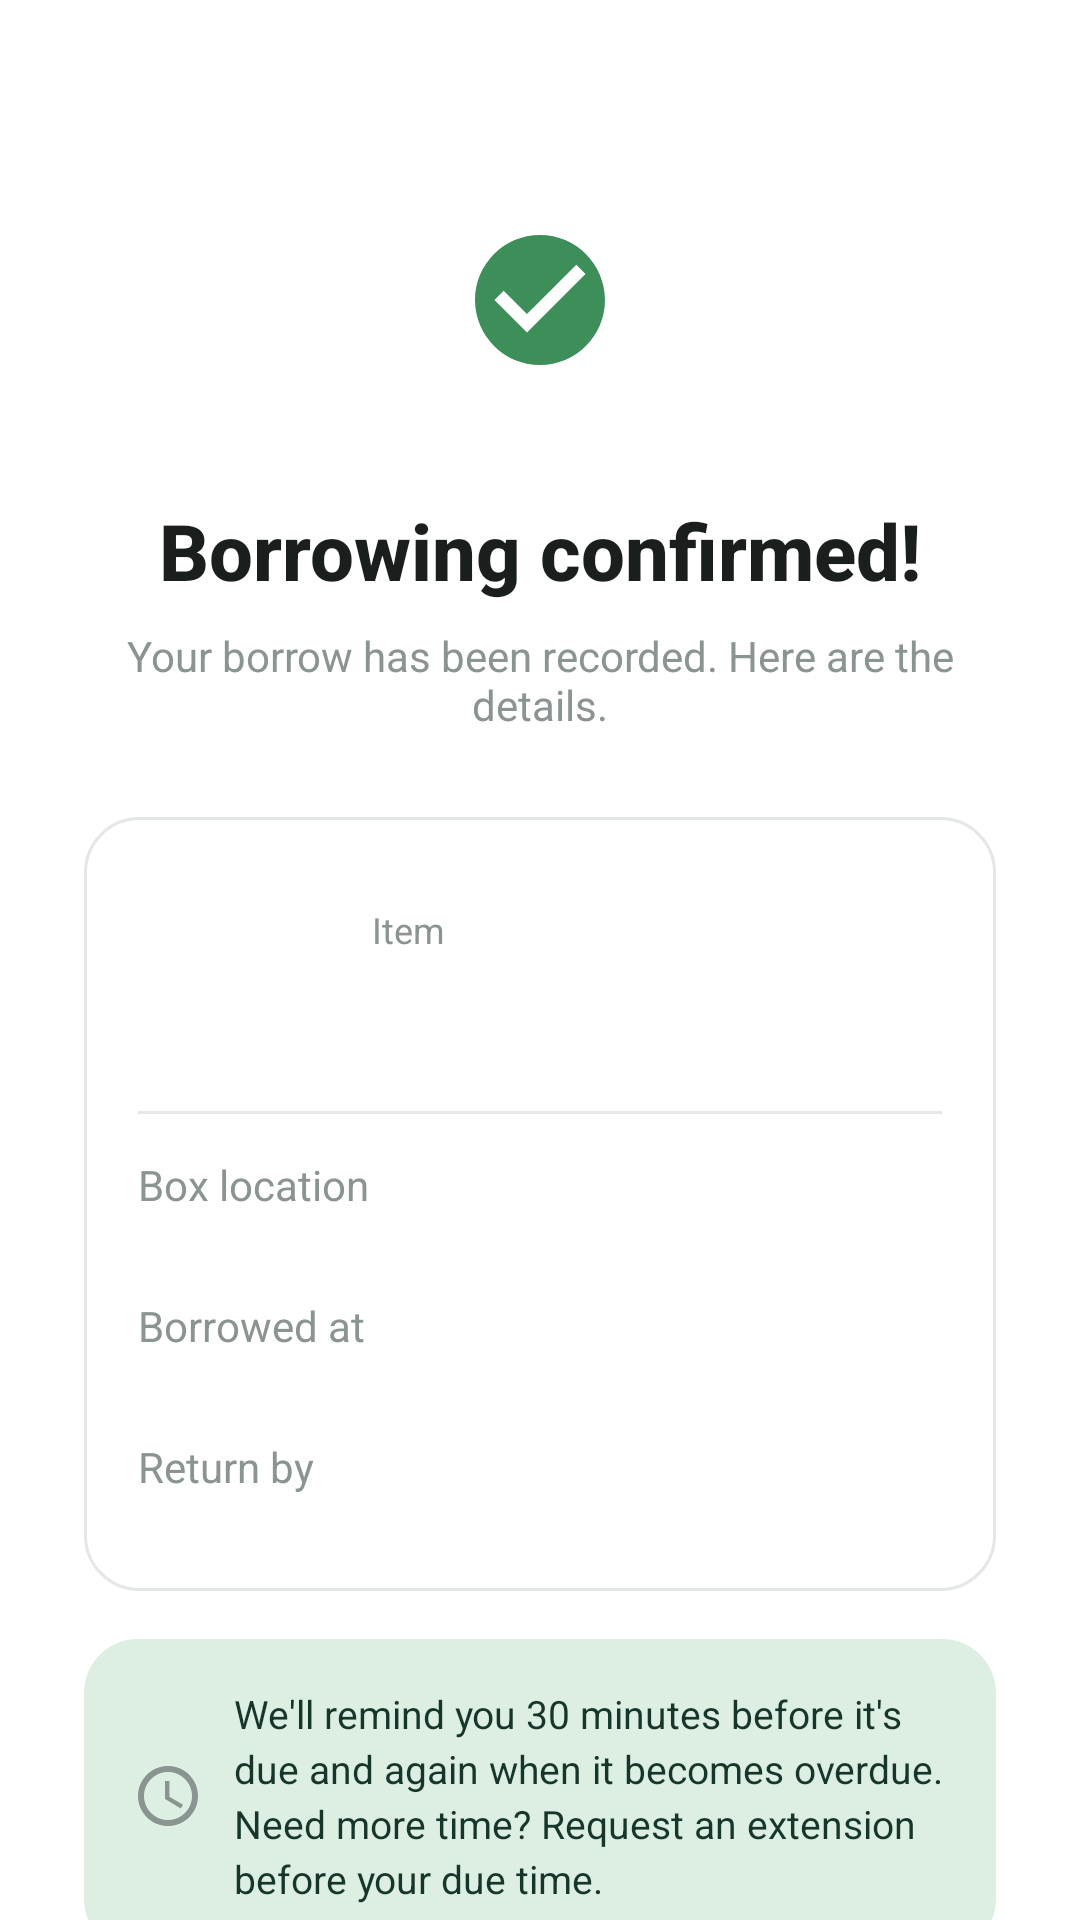

Icon bounding boxes for this 1080px x 1920px phone screenshot, format [x1,y1,x2,y2]:
check circle: [475,235,605,365]
